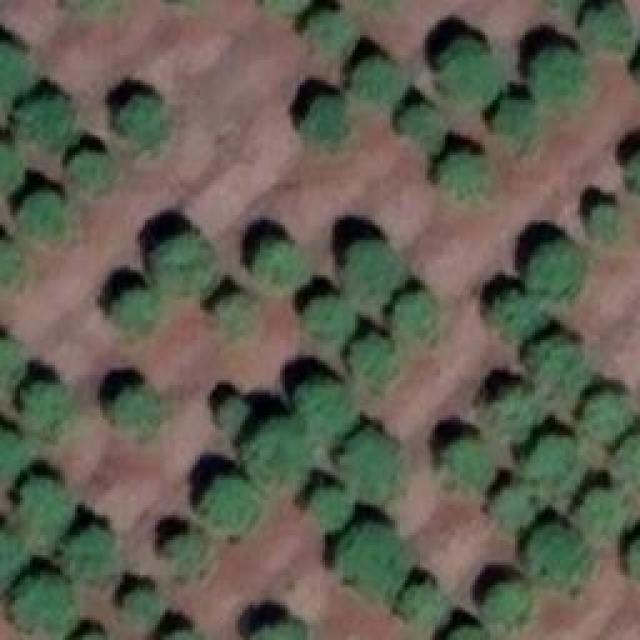Tree: (345, 525, 408, 595), (340, 425, 403, 490), (528, 523, 591, 586), (153, 237, 218, 295), (247, 420, 305, 485), (198, 475, 261, 533), (523, 333, 583, 393), (298, 378, 353, 443), (532, 50, 590, 108), (445, 43, 498, 106), (12, 575, 70, 628), (528, 240, 583, 295), (440, 438, 495, 491), (520, 435, 578, 485), (60, 530, 118, 578), (13, 98, 73, 143), (348, 240, 403, 288), (25, 475, 70, 533), (115, 95, 168, 143), (583, 0, 636, 48), (490, 290, 543, 338), (350, 58, 405, 103), (108, 390, 163, 435), (255, 240, 308, 285), (305, 95, 350, 148), (305, 300, 358, 345), (22, 382, 70, 430), (350, 338, 390, 391), (575, 490, 623, 533), (485, 580, 533, 623), (585, 393, 630, 438), (438, 152, 491, 190), (305, 485, 355, 525), (490, 98, 540, 138), (403, 583, 446, 628), (0, 45, 32, 105), (490, 387, 530, 435), (390, 293, 433, 336), (305, 12, 353, 50), (397, 102, 445, 140), (493, 485, 533, 528), (15, 192, 60, 230), (110, 287, 155, 325), (220, 293, 258, 333), (68, 153, 111, 188), (168, 533, 203, 576), (615, 432, 640, 490), (0, 428, 30, 471), (128, 587, 161, 625), (250, 620, 308, 640), (447, 620, 495, 640), (220, 398, 248, 431), (0, 532, 22, 572), (0, 240, 22, 280), (590, 205, 618, 235), (0, 340, 22, 377), (0, 142, 20, 180), (625, 150, 640, 193)
